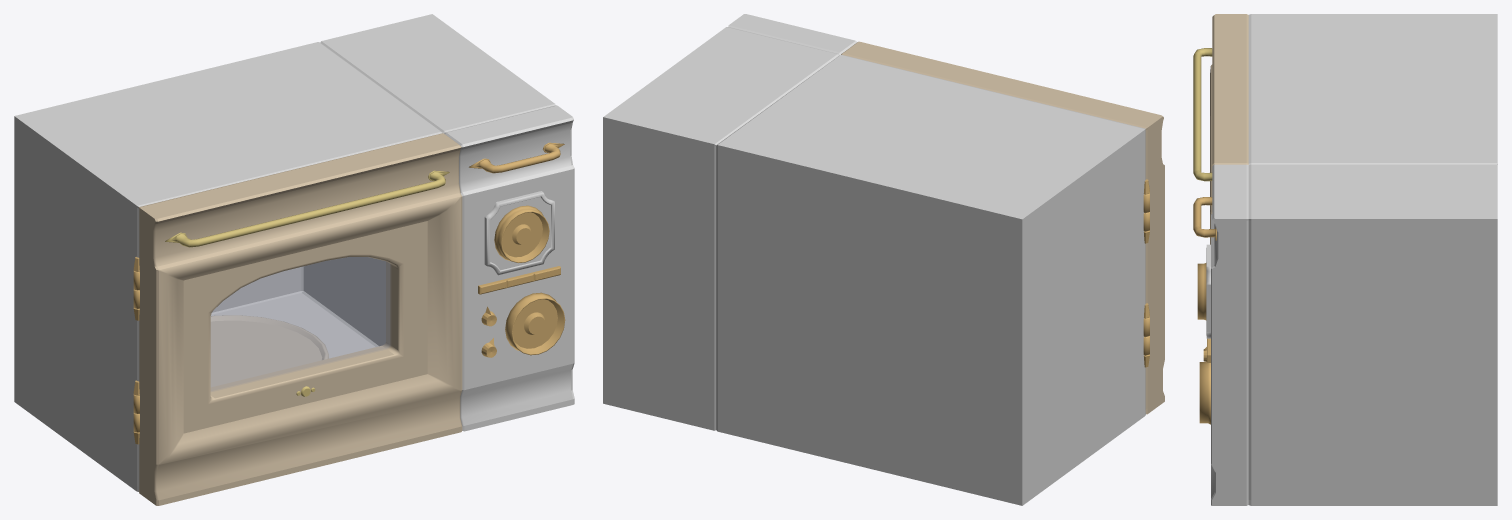
The model's file is microwave_a003.fbx.
3 renders of one model, left to right at view 1: azimuth 30°, elevation 25°; view 2: azimuth 150°, elevation 25°; view 3: azimuth 270°, elevation 25°, orthographic.
Parts seen in each view (by area): view 1: microwave_base, microwave_door; view 2: microwave_base, microwave_door; view 3: microwave_base, microwave_door.
Boxes of the visible parts, box(x1,y1,x2,y2) form: microwave_base: box(14, 14, 574, 491); microwave_door: box(139, 133, 462, 505); microwave_base: box(603, 14, 1149, 505); microwave_door: box(841, 41, 1164, 414); microwave_base: box(1193, 14, 1497, 505); microwave_door: box(1193, 14, 1248, 244).
Size of the model in its own units: 79.72 by 51.59 by 49.59.
